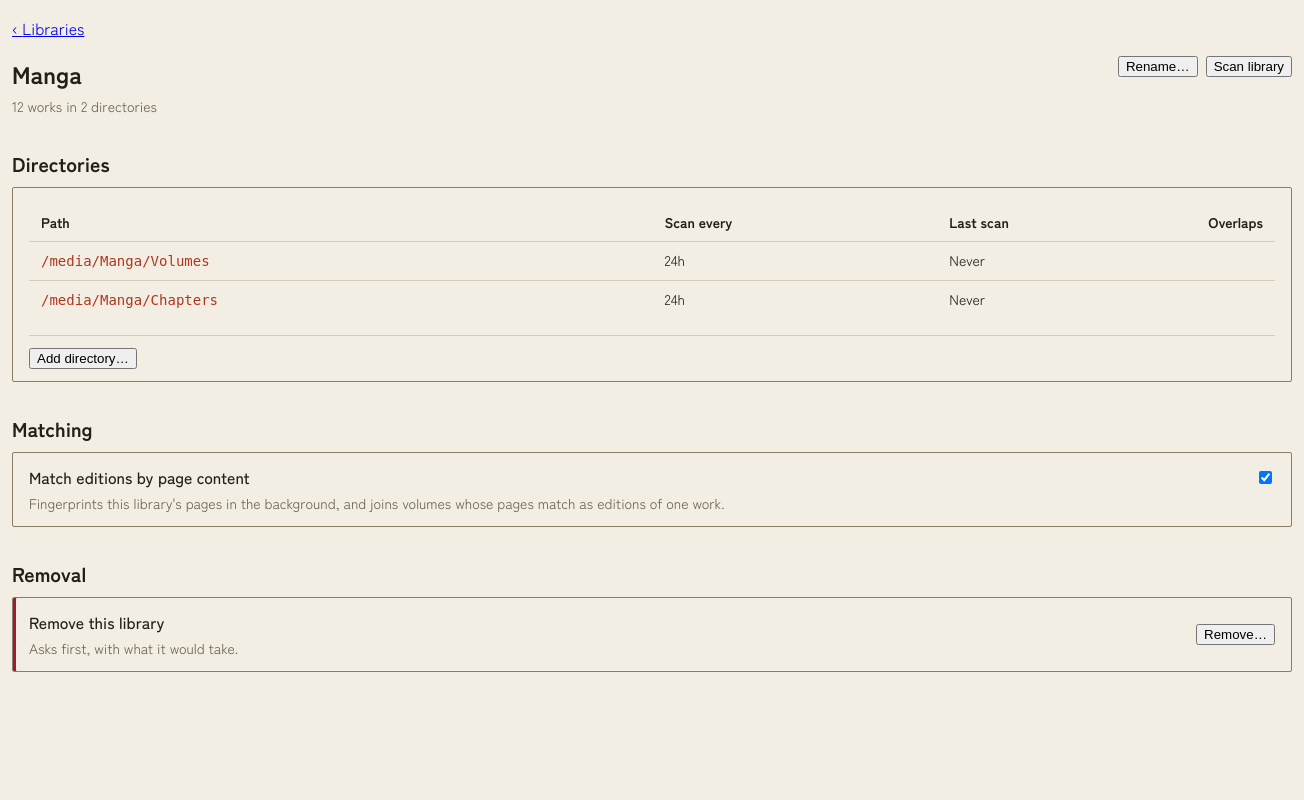
LibraryPage › closes the editor with Escape from the box, Save or Cancel, and with Cancel, putting focus back on Rename…, but holds both from the moment a save is sent
Later steps or results of the test are not shown.
Click the button "Rename…" at (1158, 66), box [1118,56,1198,77]
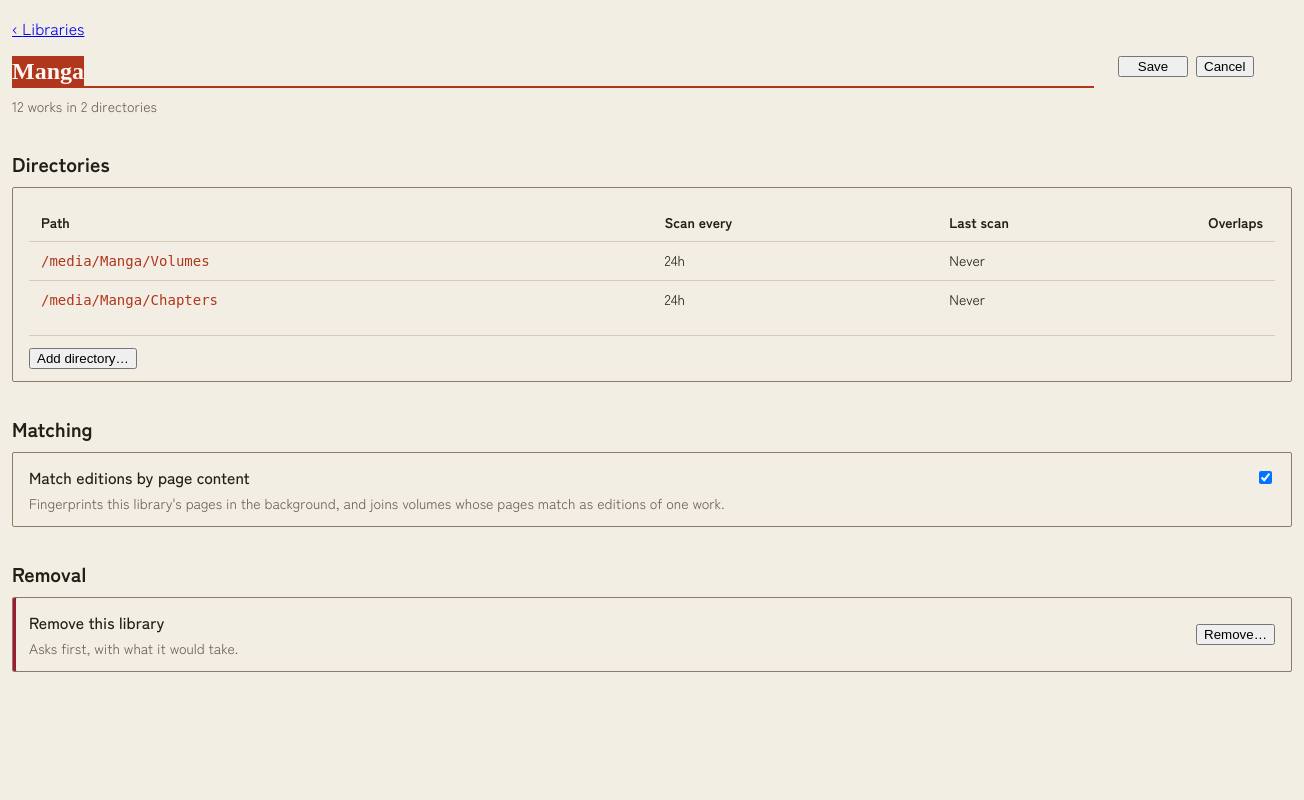
Press Escape in the field named "library-name", box [12,56,1094,88]
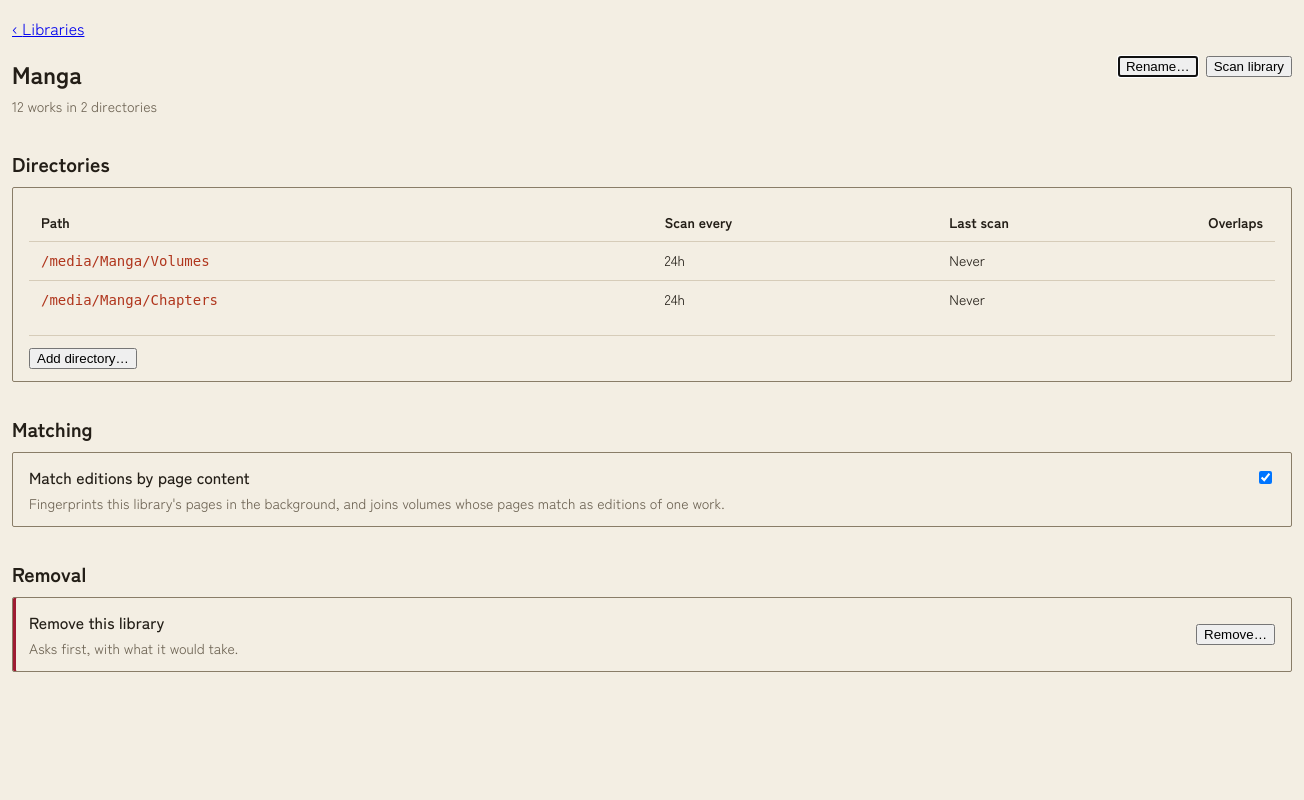
Result: the heading "Manga" is shown at [12,56,82,91]
Click the button "Rename…" at (1158, 66), box [1118,56,1198,77]
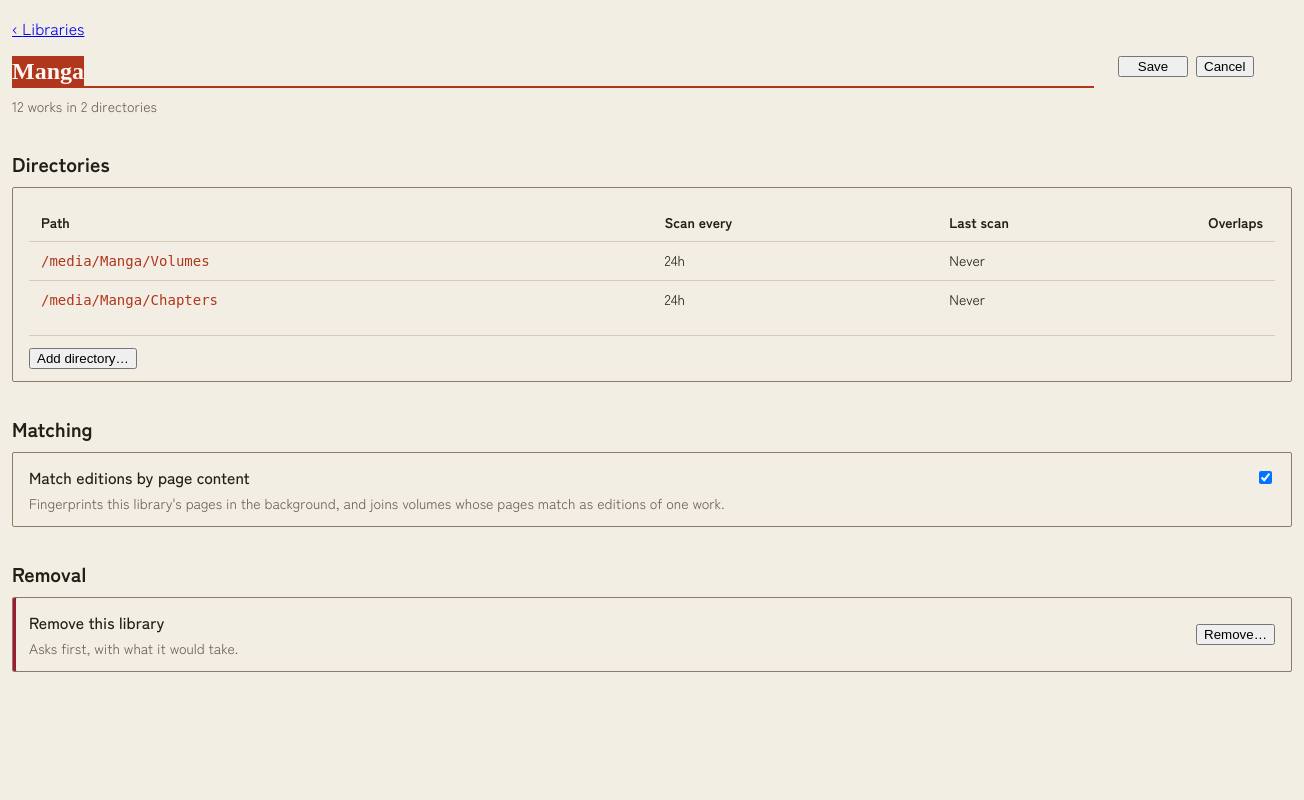
Press Escape in the button "Save", box [1118,56,1188,77]
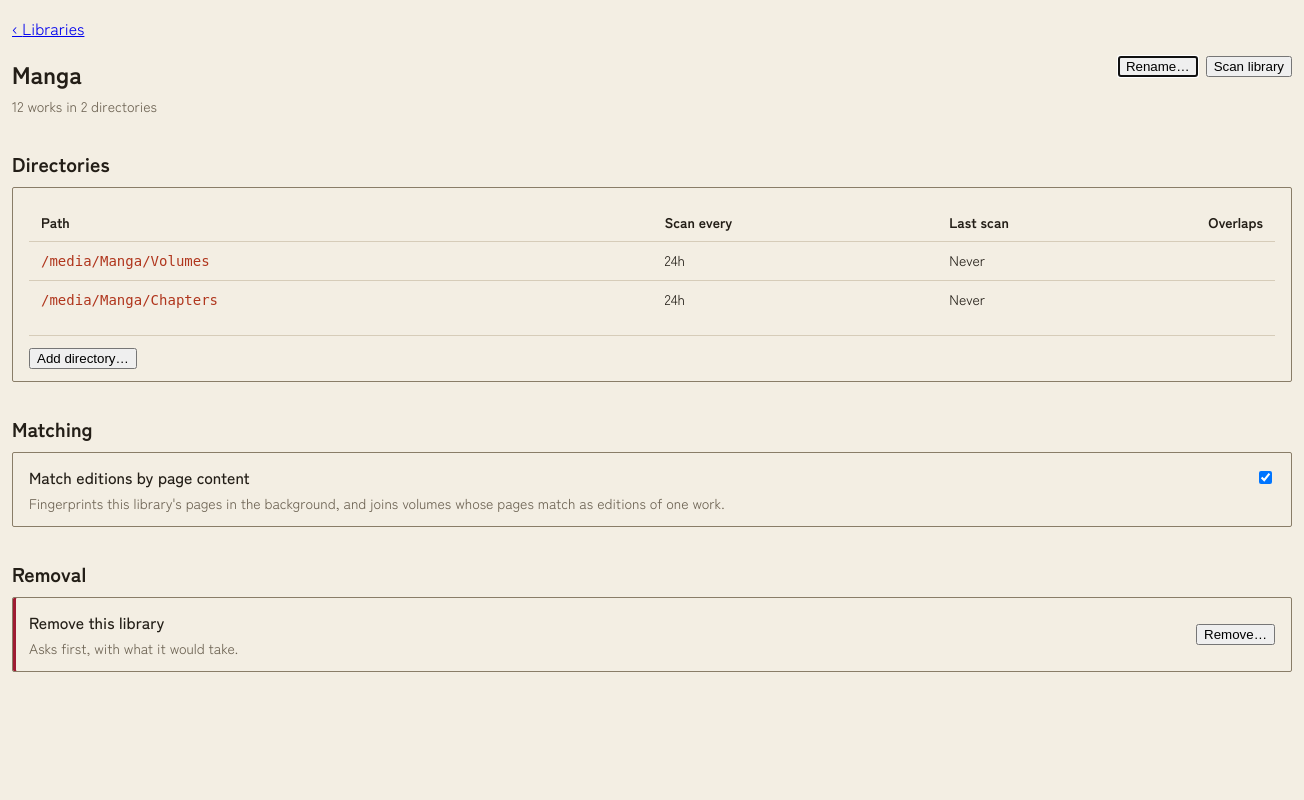
Result: the heading "Manga" is shown at [12,56,82,91]
Click the button "Rename…" at (1158, 66), box [1118,56,1198,77]
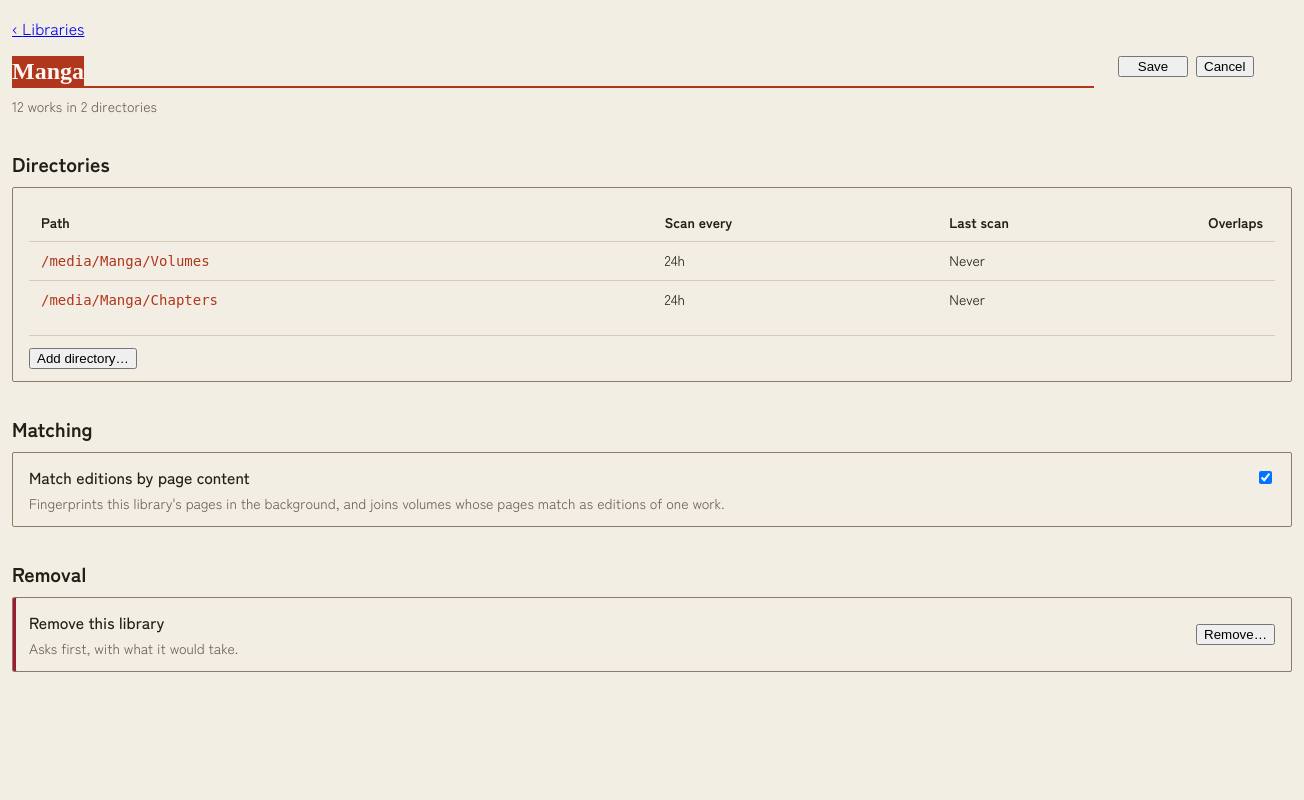
Press Escape in the button "Cancel", box [1196,56,1254,77]
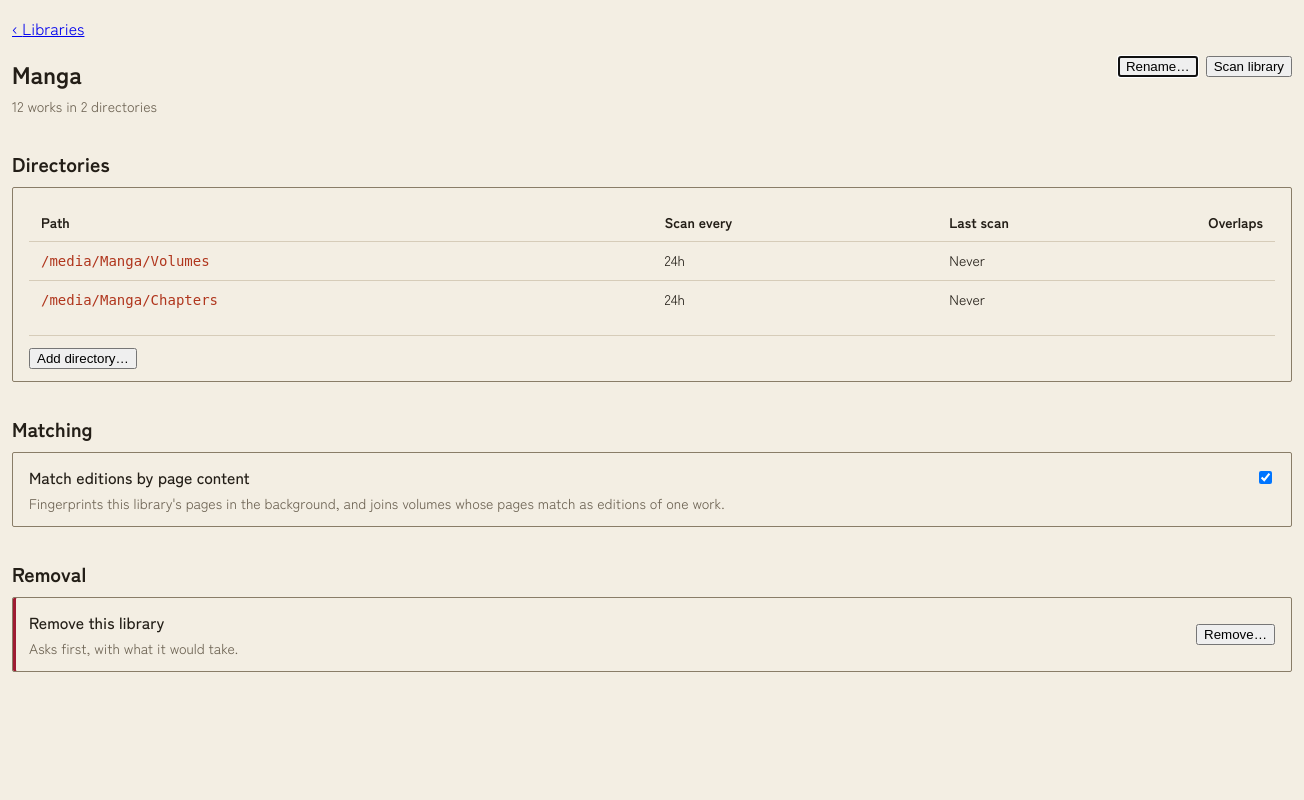
Result: the heading "Manga" is shown at [12,56,82,91]
